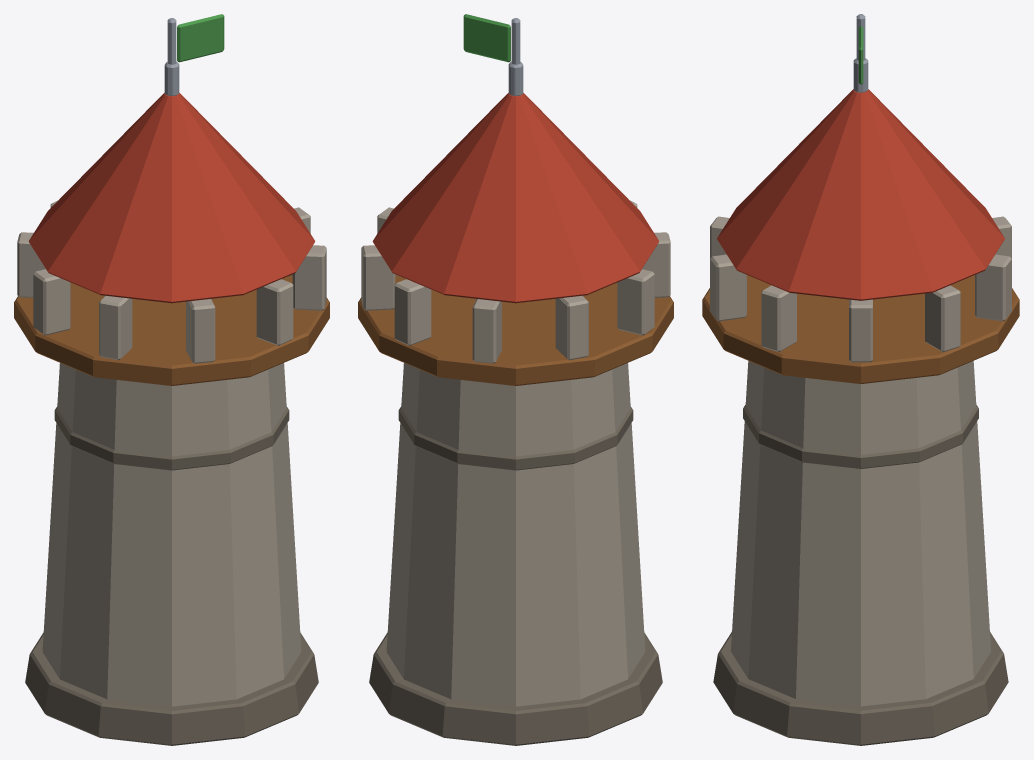
File: tower_archer_3.glb
3 renders of one model, left to right at view 1: azimuth 30°, elevation 25°; view 2: azimuth 150°, elevation 25°; view 3: azimuth 270°, elevation 25°, orthographic.
Visible parts, largest first — view 1: SM_Tower_Archer_t3; view 2: SM_Tower_Archer_t3; view 3: SM_Tower_Archer_t3.
Part boxes in pixels (left/top/right/bottom): SM_Tower_Archer_t3: left=14, top=14, right=329, bottom=745; SM_Tower_Archer_t3: left=358, top=14, right=673, bottom=745; SM_Tower_Archer_t3: left=702, top=14, right=1019, bottom=745.
Size of the model in its own units: 1.68 by 3.9 by 1.68.
